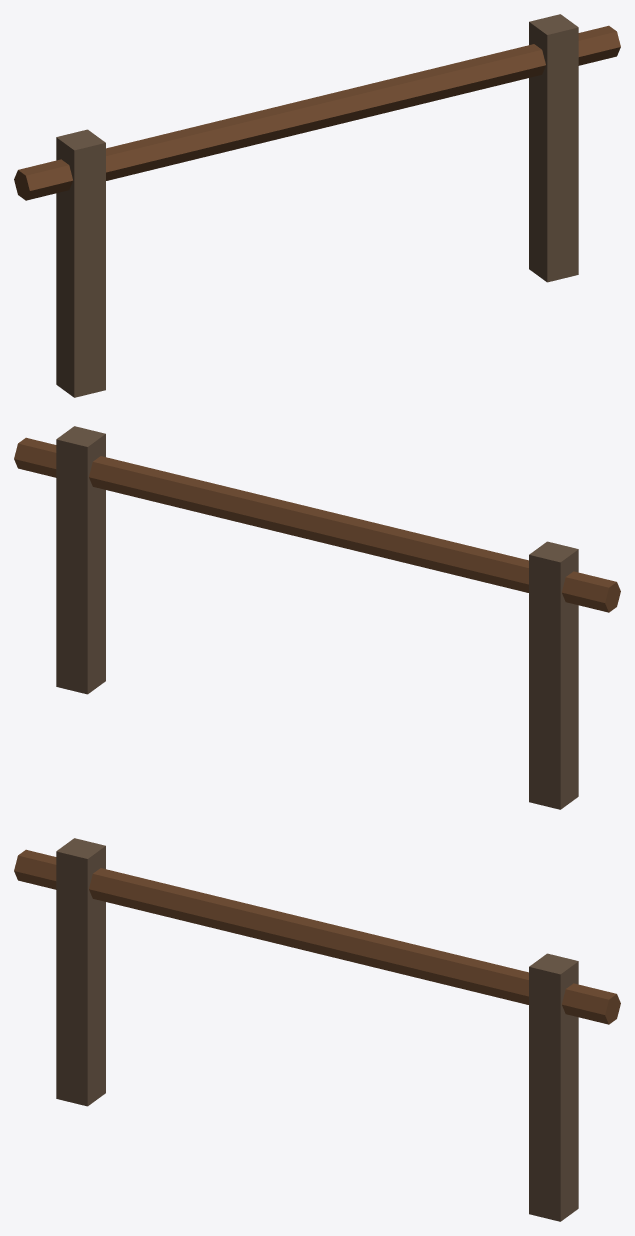
The model's file is SM_HitchingPost.fbx.
3 views of the same model, one above another, from view 1: azimuth 30°, elevation 25°; view 2: azimuth 150°, elevation 25°; view 3: azimuth 330°, elevation 25° (orthographic).
Parts seen in each view (by area): view 1: HitchingPost; view 2: HitchingPost; view 3: HitchingPost.
Boxes of the visible parts, box(x1,y1,x2,y2) form: HitchingPost: box(14, 14, 620, 397); HitchingPost: box(14, 426, 620, 809); HitchingPost: box(14, 838, 620, 1221).
Bounding box in the file's own units: 300 × 16 × 120.
